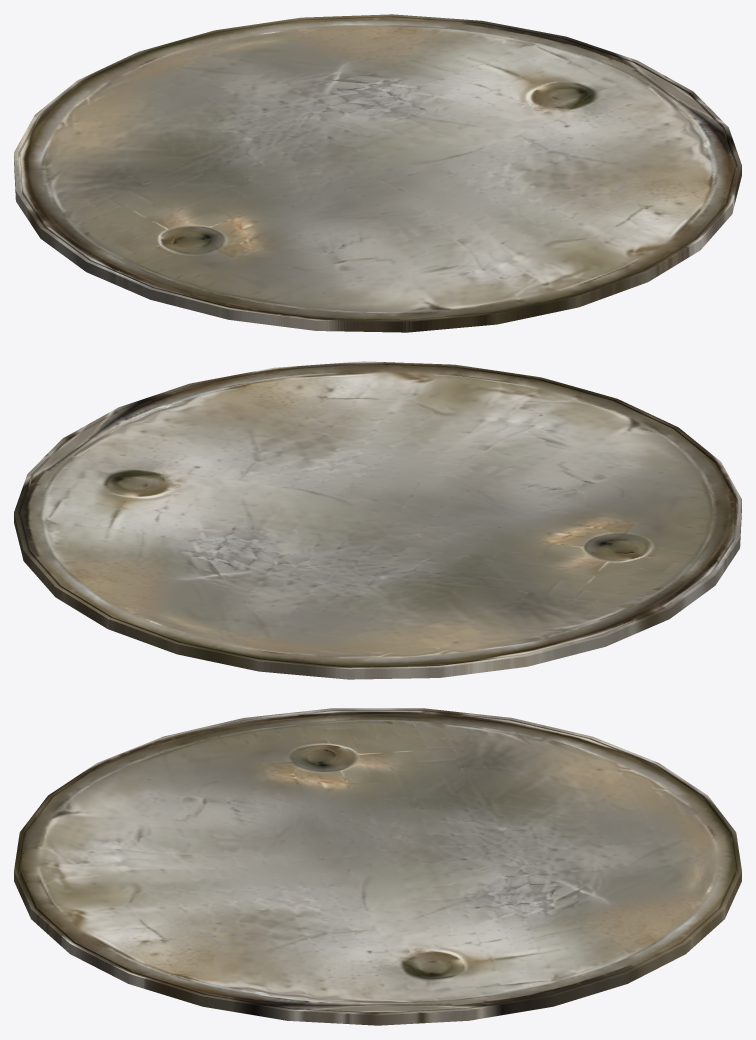
Rendered from Ground Utility.fbx.
The picture shows the model from 3 angles, top to bottom: view 1: azimuth 30°, elevation 25°; view 2: azimuth 150°, elevation 25°; view 3: azimuth 270°, elevation 25°; orthographic projection.
Parts seen in each view (by area): view 1: pCylinder1; view 2: pCylinder1; view 3: pCylinder1.
Boxes of the visible parts, x1,y1,x2,y2 form: pCylinder1: (14, 14, 741, 332); pCylinder1: (14, 361, 741, 679); pCylinder1: (14, 708, 741, 1025).
Size of the model in its own units: 2.03 by 0.0319 by 2.03.
1 material, 1 textured.
